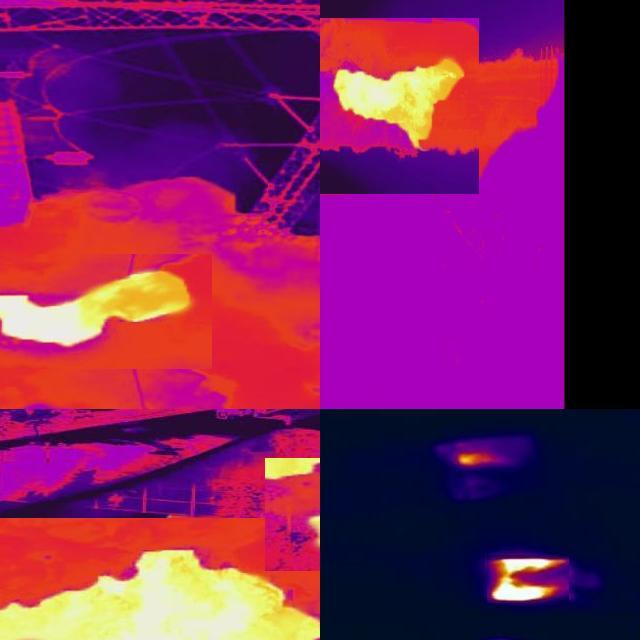fire: (3, 548, 321, 640), (1, 272, 201, 348), (337, 60, 466, 154), (487, 556, 569, 604), (266, 459, 320, 486), (453, 451, 503, 467)
